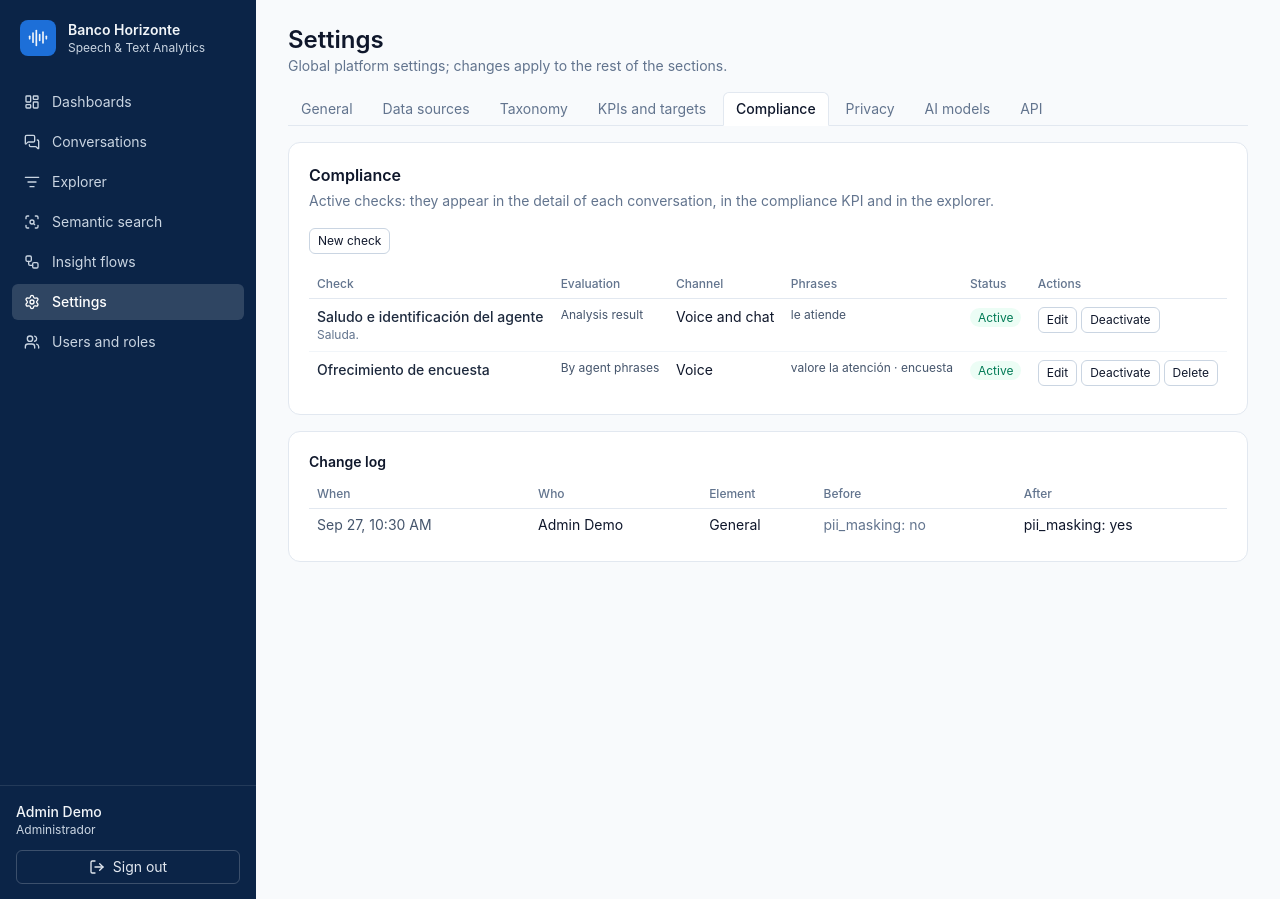
Configuración con la interfaz en inglés (FE016, T7) › Cumplimiento: checks, evaluación y canal en inglés
This screenshot has width=1280, height=899.
Check: the text "Analysis result" is shown, box [553, 298, 668, 352]
Check: the text "By agent phrases" is shown, box [553, 352, 668, 394]
Click the button "New check" at (350, 241), box [309, 228, 390, 254]
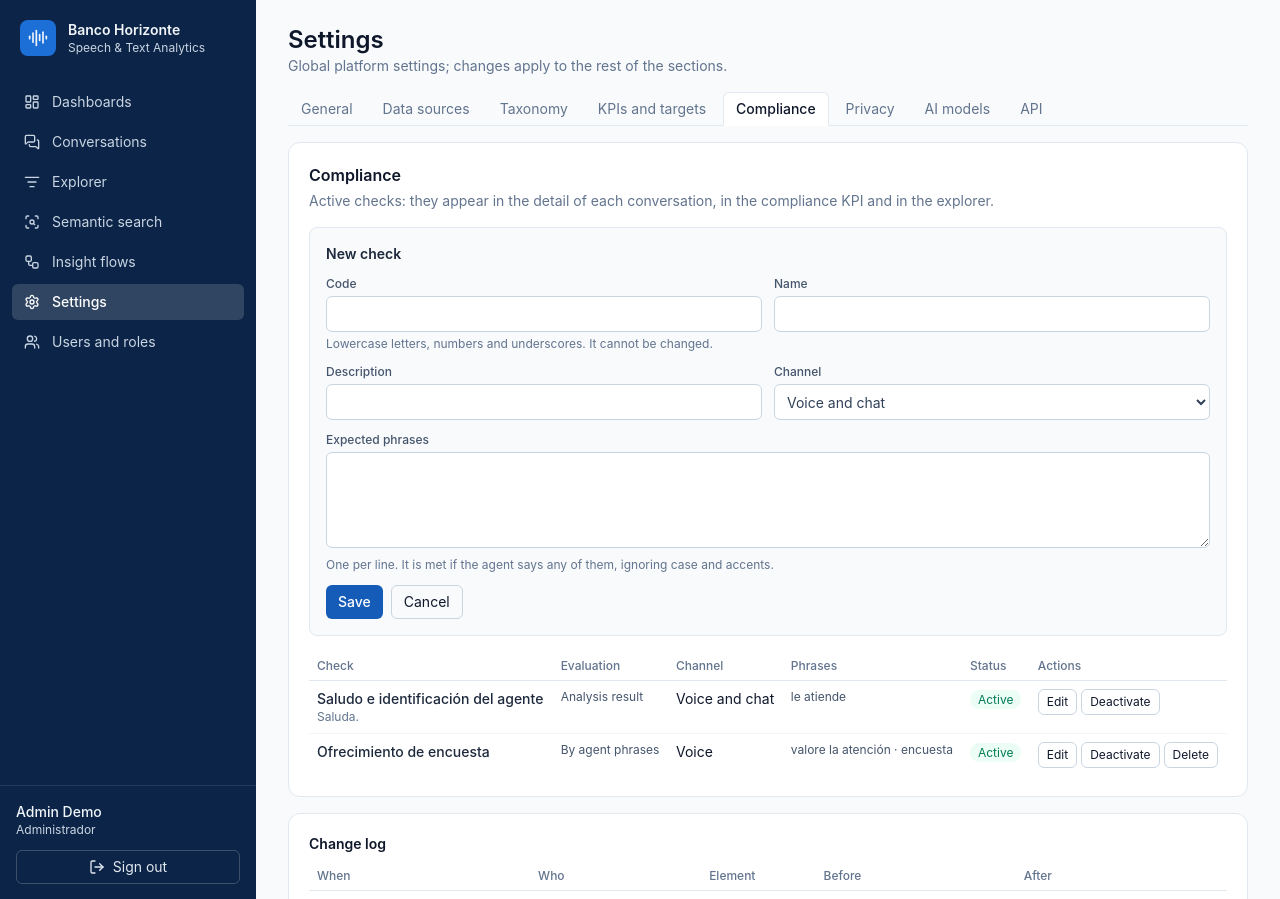
Check: the text box labelled "Expected phrases" is shown, box [326, 452, 1210, 548]
